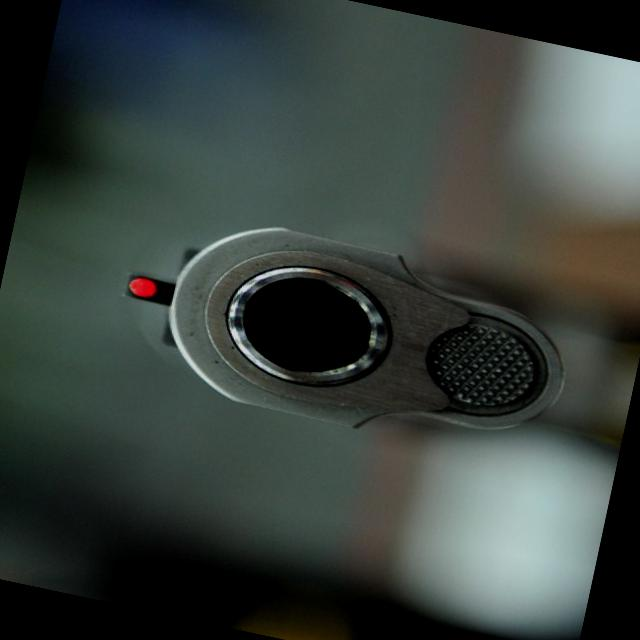handgun: (58, 177, 639, 491)
